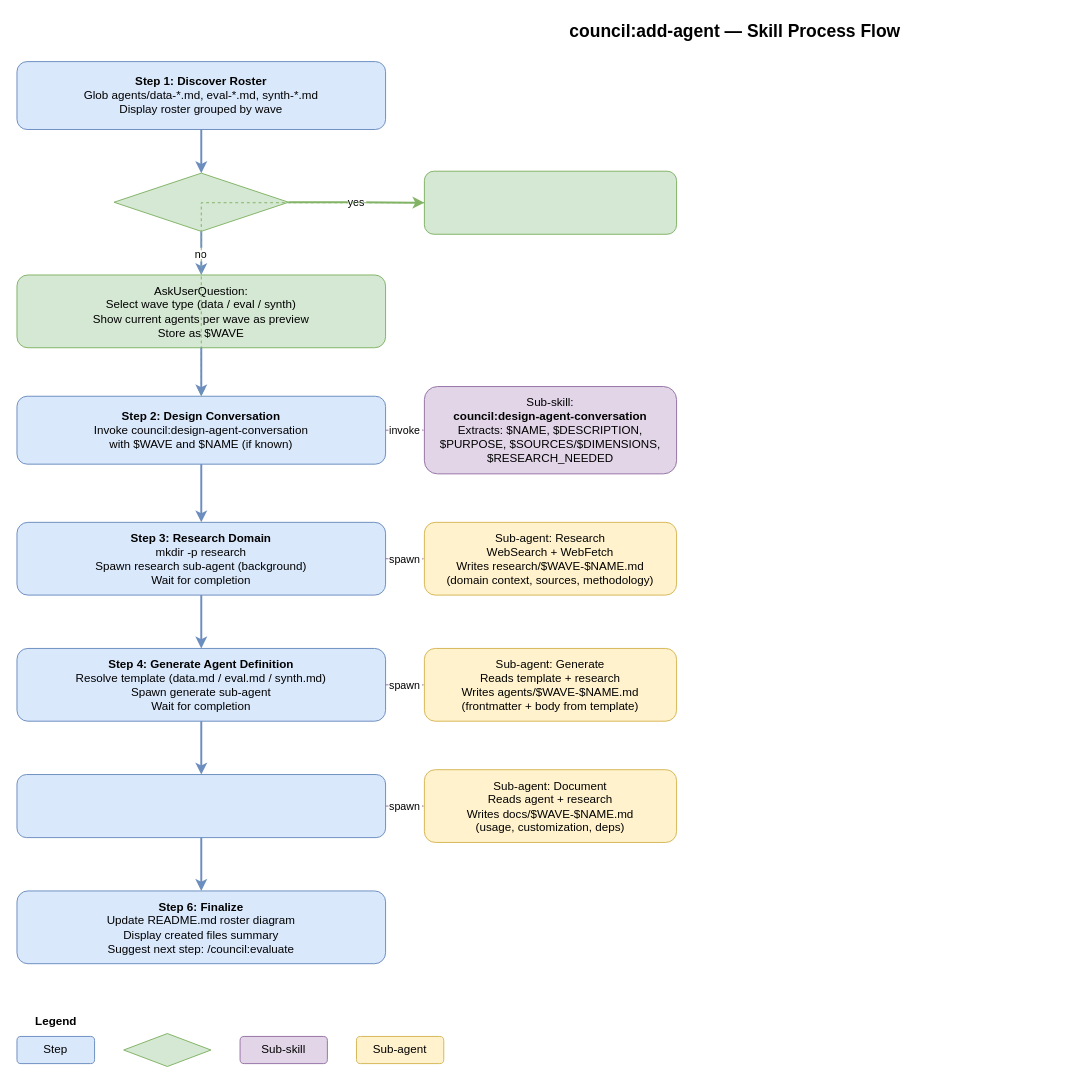
Some shapes in this 1091 by 1083 pixel diagram are drawn without their labels. Here are the shapes that lost their labels. From the top down, the box of each, then its label:
(113, 172, 289, 231): $ARGUMENTS has wave?
(423, 170, 677, 234): Parse $ARGUMENTS Store $WAVE (and $NAME if present) Skip wave selection
(16, 774, 386, 838): Step 5: Generate Documentation Spawn doc sub-agent Wait for completion
(123, 1033, 211, 1067): Decision
